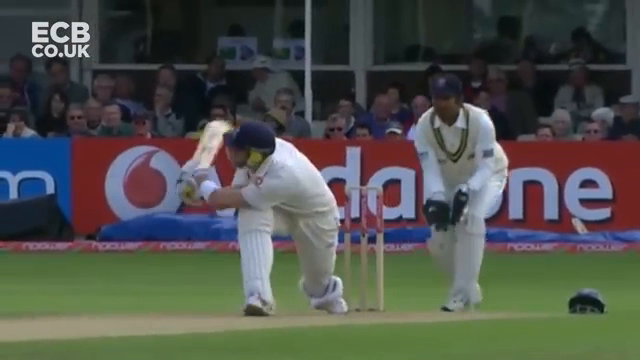Keeper: (410, 73, 510, 312)
batsman: (176, 117, 351, 316)
